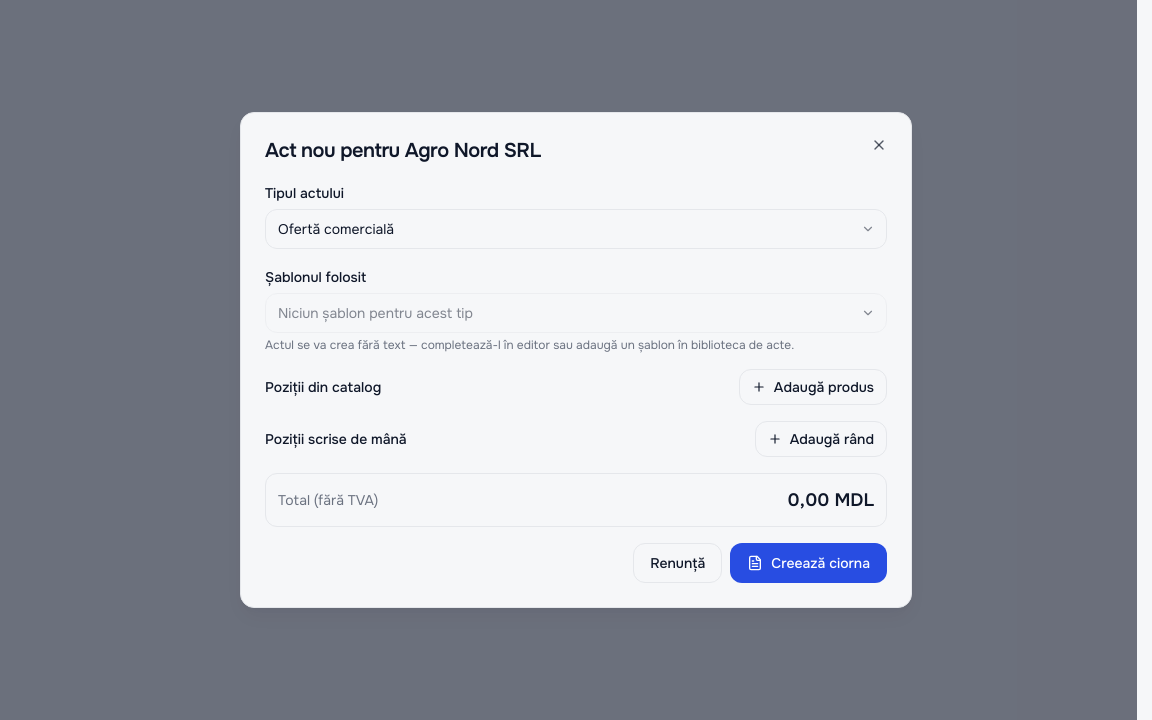
Test: Act nou dintr-un lead › totalul urmează cantitatea, nu rămâne la prețul unitar
Click the button "Adaugă produs".
click(813, 387)  # box x1=739 y1=369 x2=887 y2=405
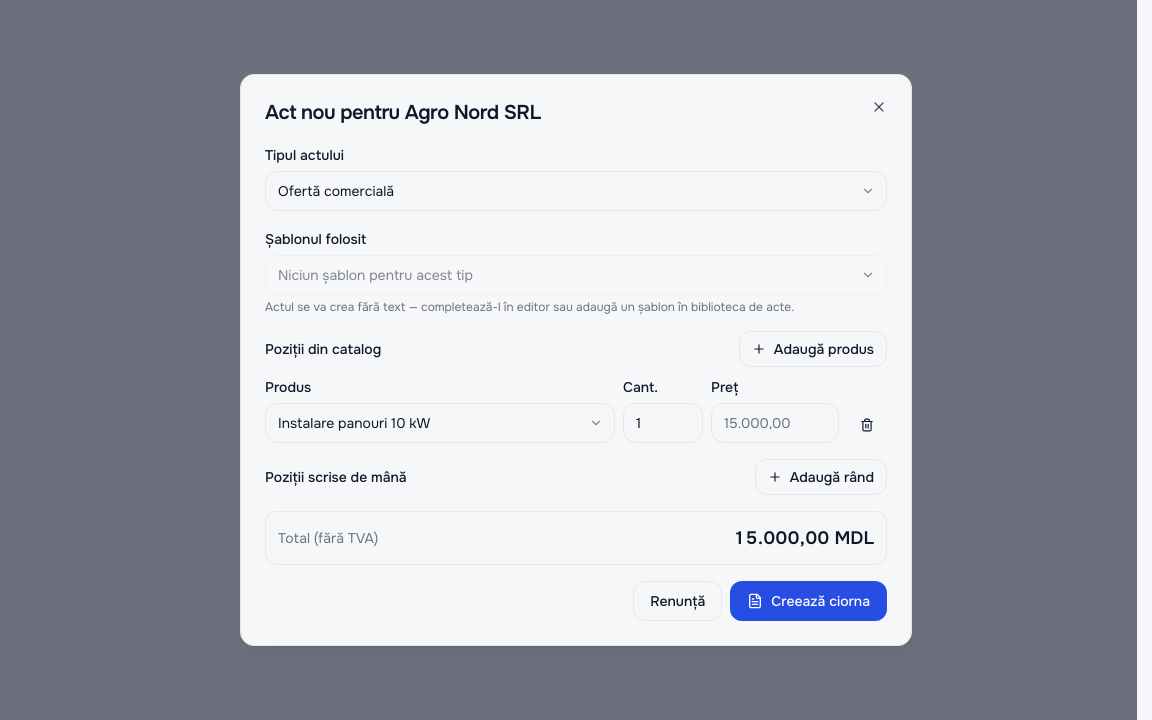
Replace the text in the number field labelled "Cant." with "3" at (663, 423), box x1=623 y1=403 x2=703 y2=443
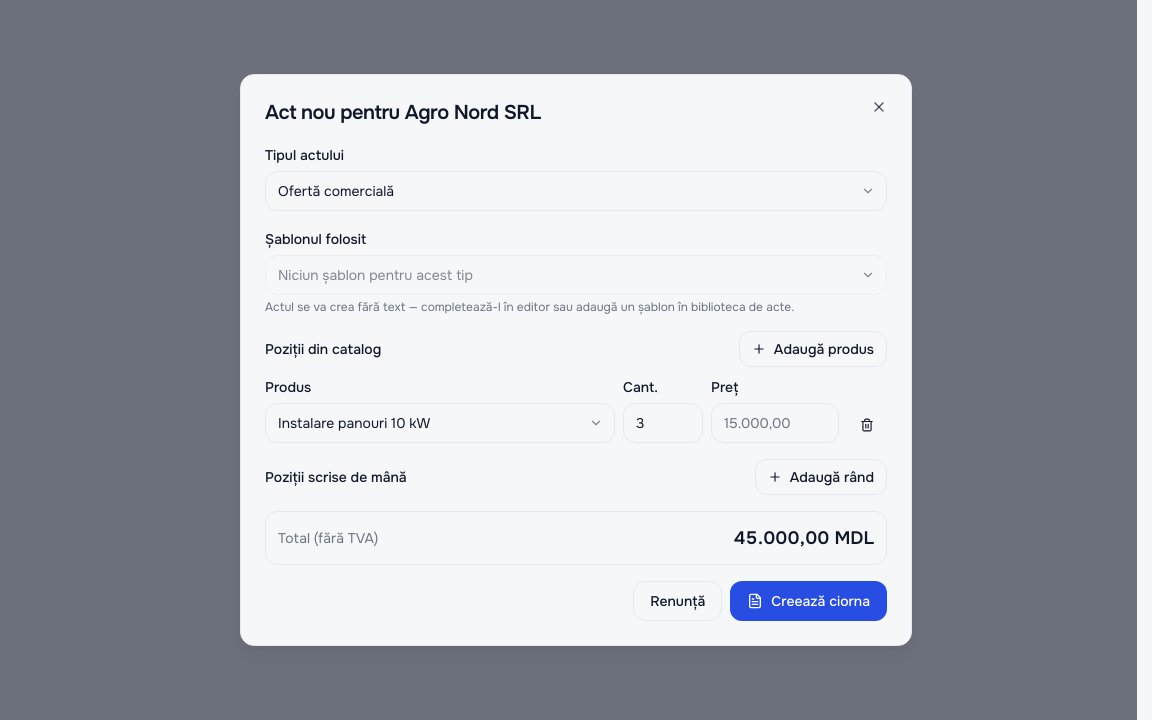
Check: the text "45.000,00 MDL" is shown, box x1=734 y1=524 x2=874 y2=552
